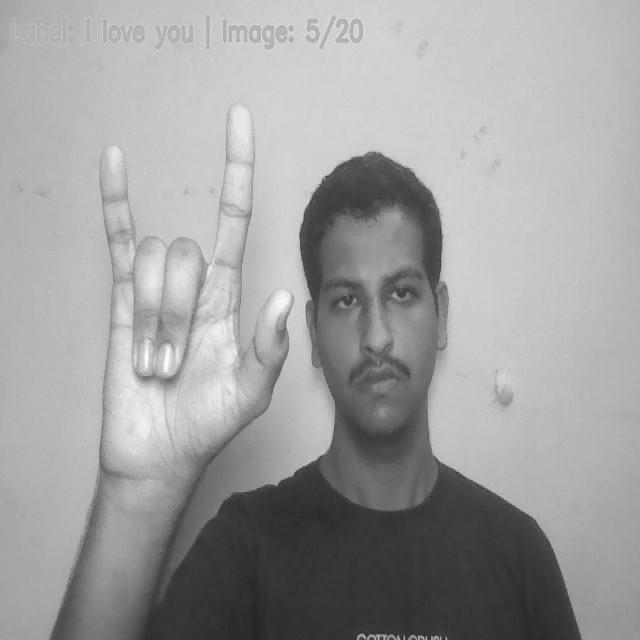I love you: (91, 93, 293, 486)
